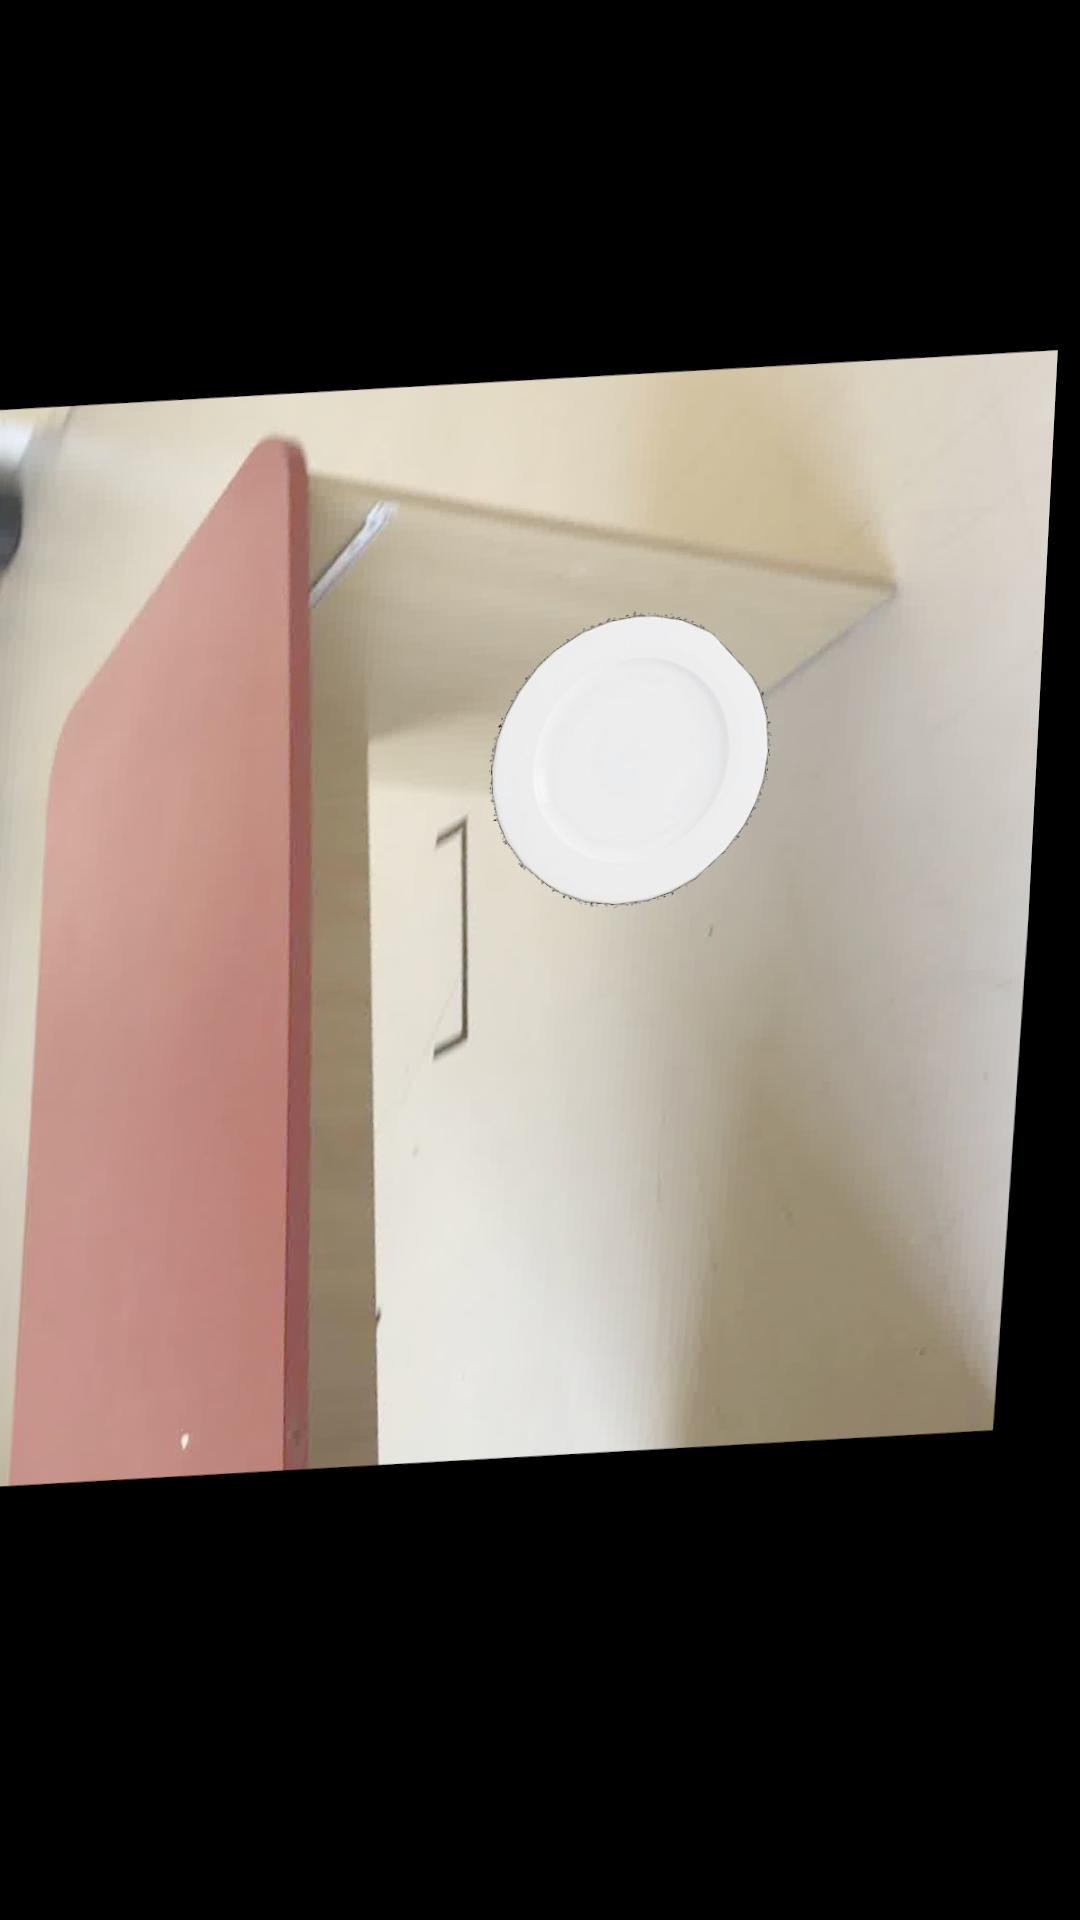plate: (497, 624, 777, 914)
